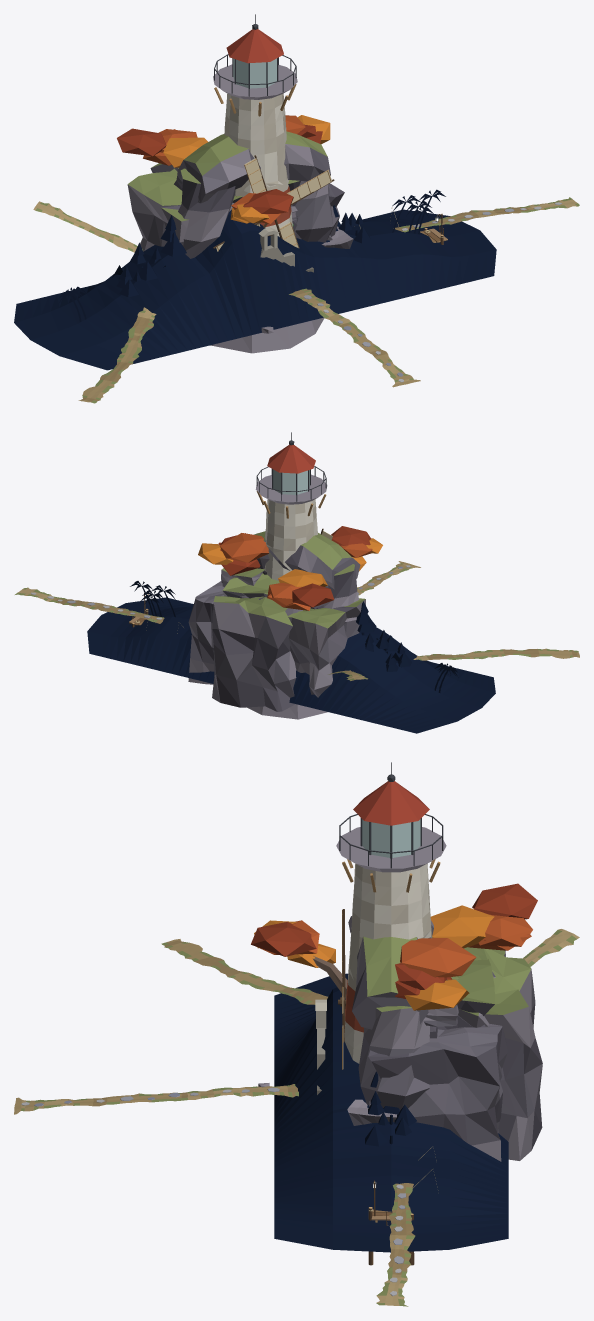
File: props.glb
The picture shows the model from 3 angles, top to bottom: view 1: azimuth 30°, elevation 25°; view 2: azimuth 150°, elevation 25°; view 3: azimuth 270°, elevation 25°; orthographic projection. The views are drawn at different scales.
Parts seen in each view (by area): view 1: far_island_0_mesh, far_island_2_mesh, sea_arch_mesh, paths_mesh, lighthouse_s1_mesh, hollow_tree_mesh, falls_crag_mesh, far_island_1_mesh, lighthouse_mesh, lighthouse_s3_mesh, windmill_sails_mesh, chapel_ruin_mesh (+1 smaller); view 2: falls_crag_mesh, far_island_0_mesh, hollow_tree_mesh, lighthouse_s1_mesh, sea_arch_mesh, paths_mesh, far_island_2_mesh, far_island_1_mesh, lighthouse_s3_mesh, lighthouse_mesh, lighthouse_s2_mesh; view 3: far_island_0_mesh, falls_crag_mesh, hollow_tree_mesh, far_island_2_mesh, sea_arch_mesh, paths_mesh, lighthouse_s1_mesh, lighthouse_s3_mesh, far_island_1_mesh, lighthouse_mesh, lighthouse_s2_mesh.
Part boxes in pixels (x1,y1,x2,y2): far_island_0_mesh: (14, 189, 496, 370); far_island_2_mesh: (81, 201, 431, 356); sea_arch_mesh: (177, 131, 339, 345); paths_mesh: (33, 197, 579, 403); lighthouse_s1_mesh: (213, 64, 297, 187); hollow_tree_mesh: (117, 115, 330, 223); falls_crag_mesh: (127, 163, 353, 251); far_island_1_mesh: (60, 195, 496, 319); lighthouse_mesh: (210, 178, 324, 353); lighthouse_s3_mesh: (226, 14, 283, 88); windmill_sails_mesh: (213, 155, 334, 251); chapel_ruin_mesh: (258, 227, 313, 272); falls_crag_mesh: (188, 568, 365, 711); far_island_0_mesh: (103, 581, 495, 733); hollow_tree_mesh: (198, 526, 382, 610); lighthouse_s1_mesh: (255, 474, 327, 570); sea_arch_mesh: (221, 531, 360, 637); paths_mesh: (15, 561, 579, 680); far_island_2_mesh: (142, 590, 442, 720); far_island_1_mesh: (87, 585, 455, 690); lighthouse_s3_mesh: (267, 432, 315, 494); lighthouse_mesh: (247, 550, 328, 719); lighthouse_s2_mesh: (256, 466, 326, 518); far_island_0_mesh: (274, 973, 508, 1249); falls_crag_mesh: (347, 947, 542, 1161); hollow_tree_mesh: (251, 883, 537, 1010); far_island_2_mesh: (274, 987, 508, 1167); sea_arch_mesh: (348, 916, 433, 1110); paths_mesh: (14, 929, 579, 1306); lighthouse_s1_mesh: (336, 827, 446, 978); lighthouse_s3_mesh: (353, 762, 429, 857); far_island_1_mesh: (274, 1223, 508, 1252); lighthouse_mesh: (258, 959, 363, 1087); lighthouse_s2_mesh: (339, 814, 443, 892).
Size of the model in its own units: 51.57 by 26.2 by 33.84.
